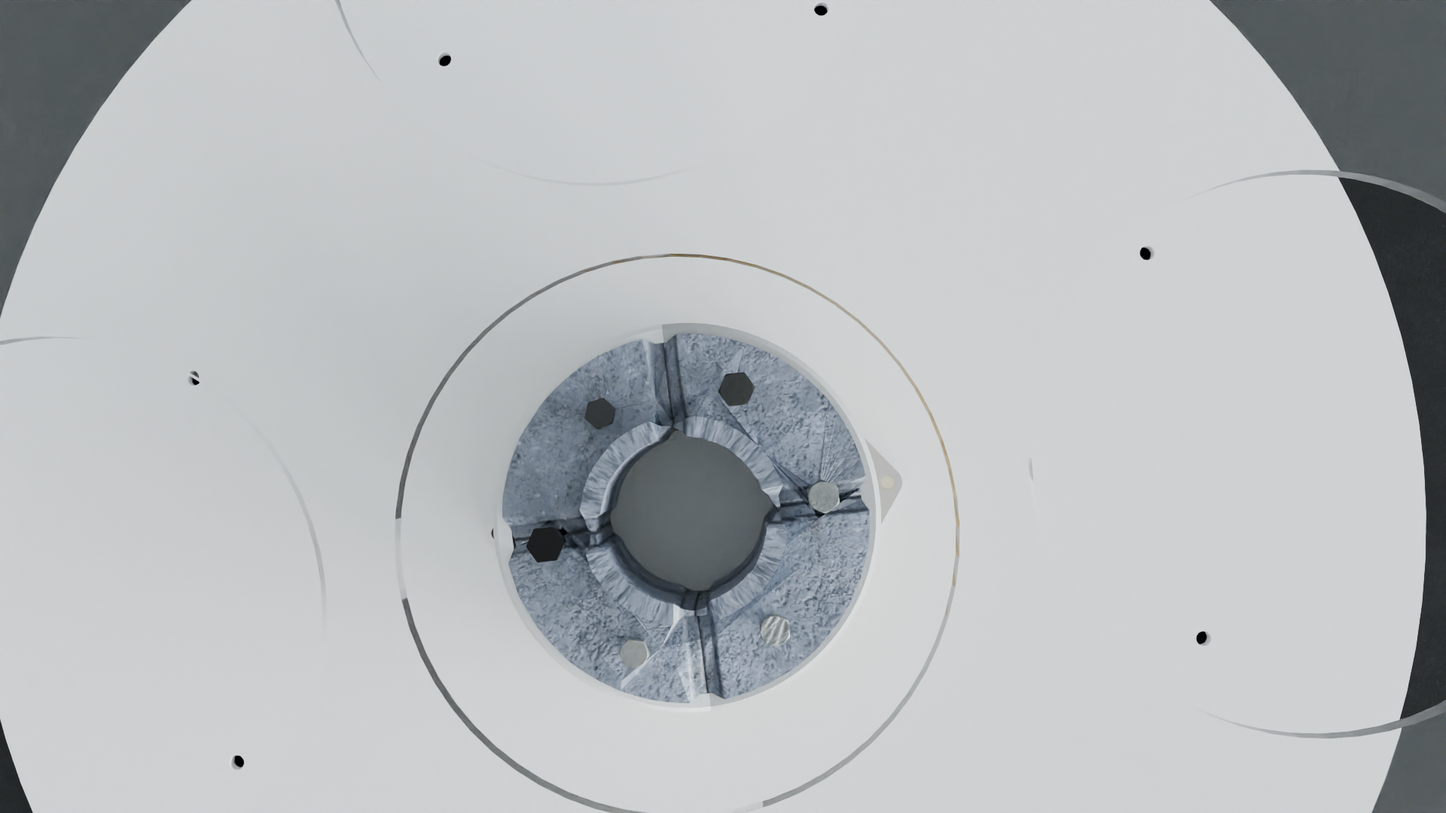bolt: (526, 527, 565, 562), (718, 372, 755, 406), (807, 480, 840, 514), (584, 397, 615, 429), (760, 614, 790, 647), (618, 639, 649, 668)
